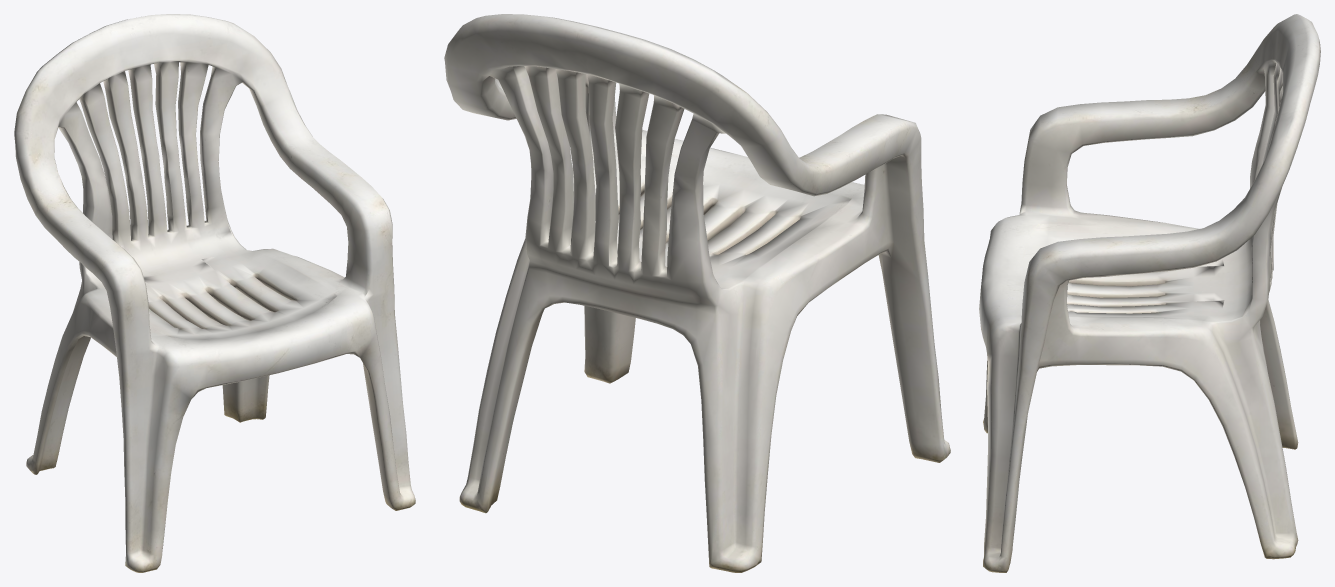
The model's file is chair.glb.
3 views of the same model, side by side, from view 1: azimuth 30°, elevation 25°; view 2: azimuth 150°, elevation 25°; view 3: azimuth 270°, elevation 25° (orthographic). The views are drawn at different scales.
Visible parts, largest first — view 1: tripo_node_2da067f0-7c36-442a-893c-b30b6a8039c5; view 2: tripo_node_2da067f0-7c36-442a-893c-b30b6a8039c5; view 3: tripo_node_2da067f0-7c36-442a-893c-b30b6a8039c5.
Boxes of the visible parts, <box> form: tripo_node_2da067f0-7c36-442a-893c-b30b6a8039c5: <box>14,14,415,572</box>; tripo_node_2da067f0-7c36-442a-893c-b30b6a8039c5: <box>444,14,950,572</box>; tripo_node_2da067f0-7c36-442a-893c-b30b6a8039c5: <box>979,14,1320,572</box>.
Bounding box in the file's own units: 0.7072 × 0.9794 × 0.6651.
1 material, 1 textured.
